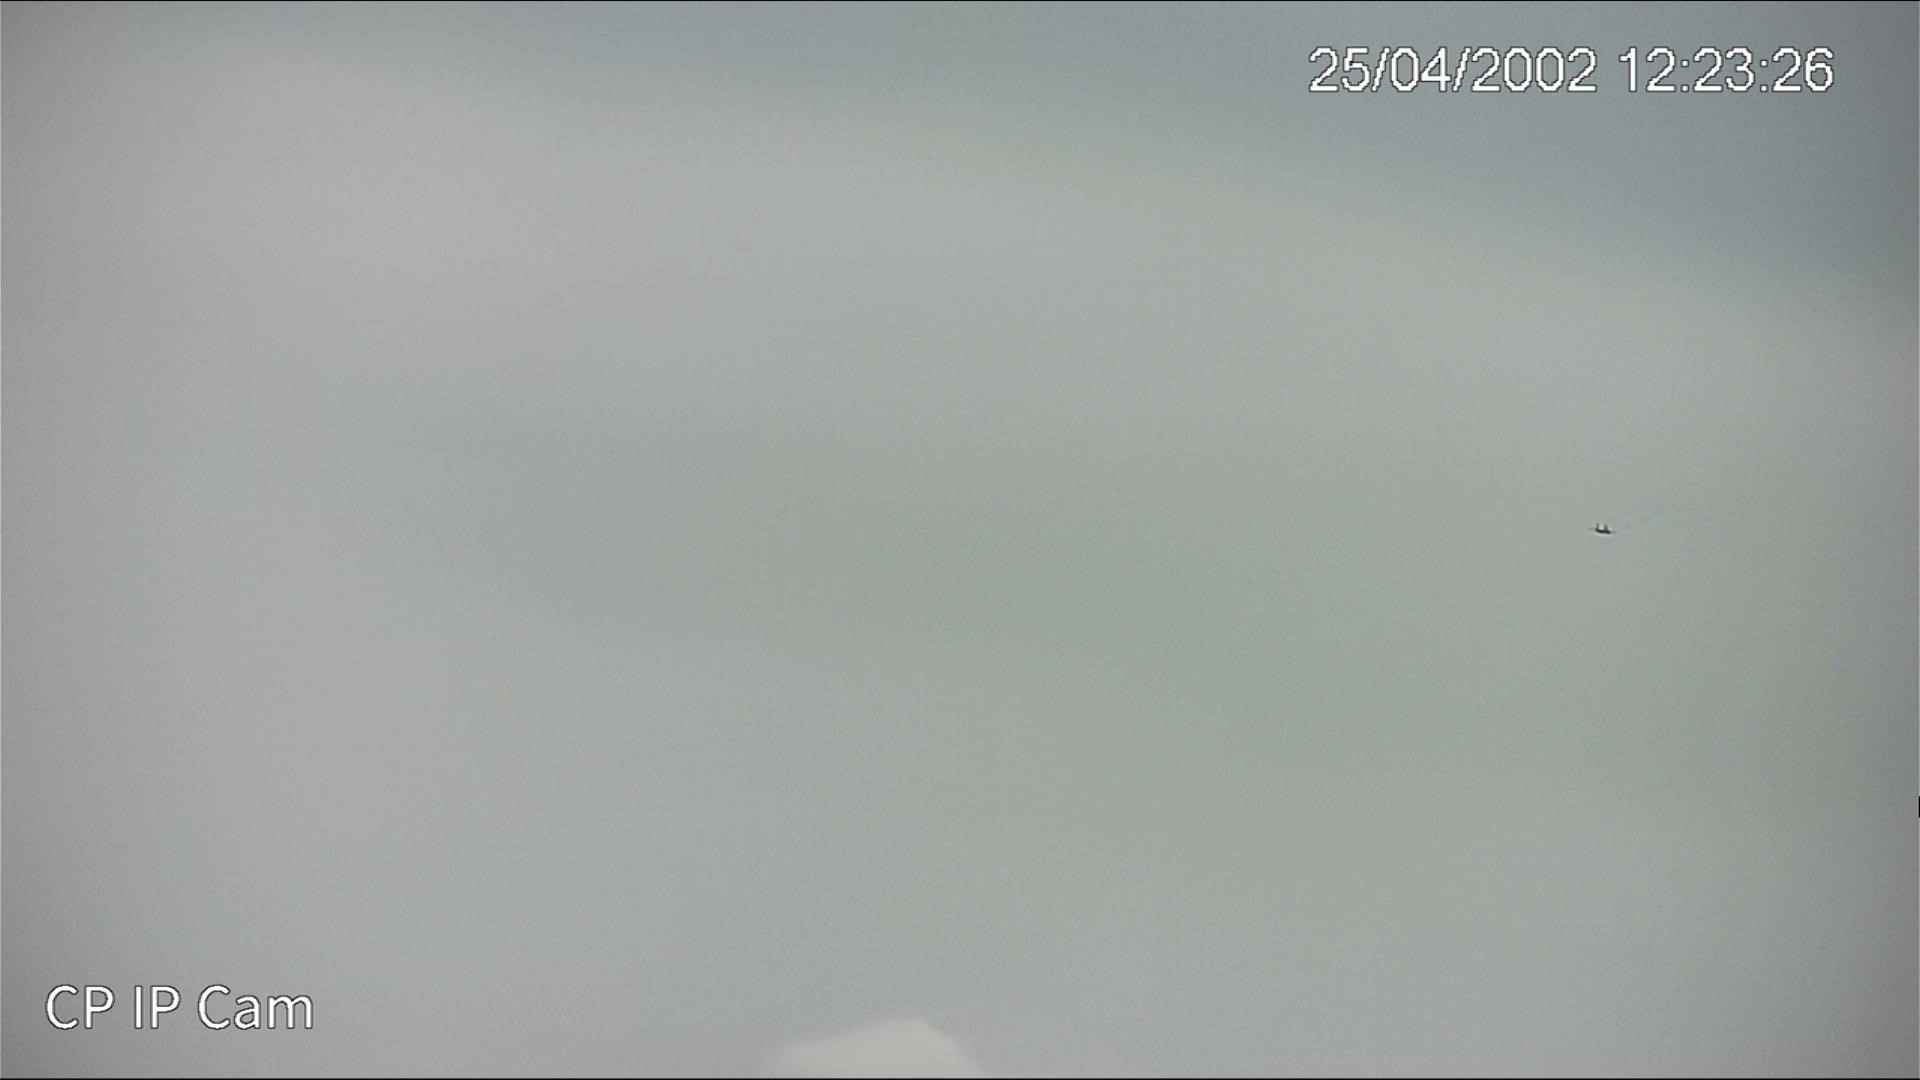SU_30: (1586, 522, 1615, 535)
